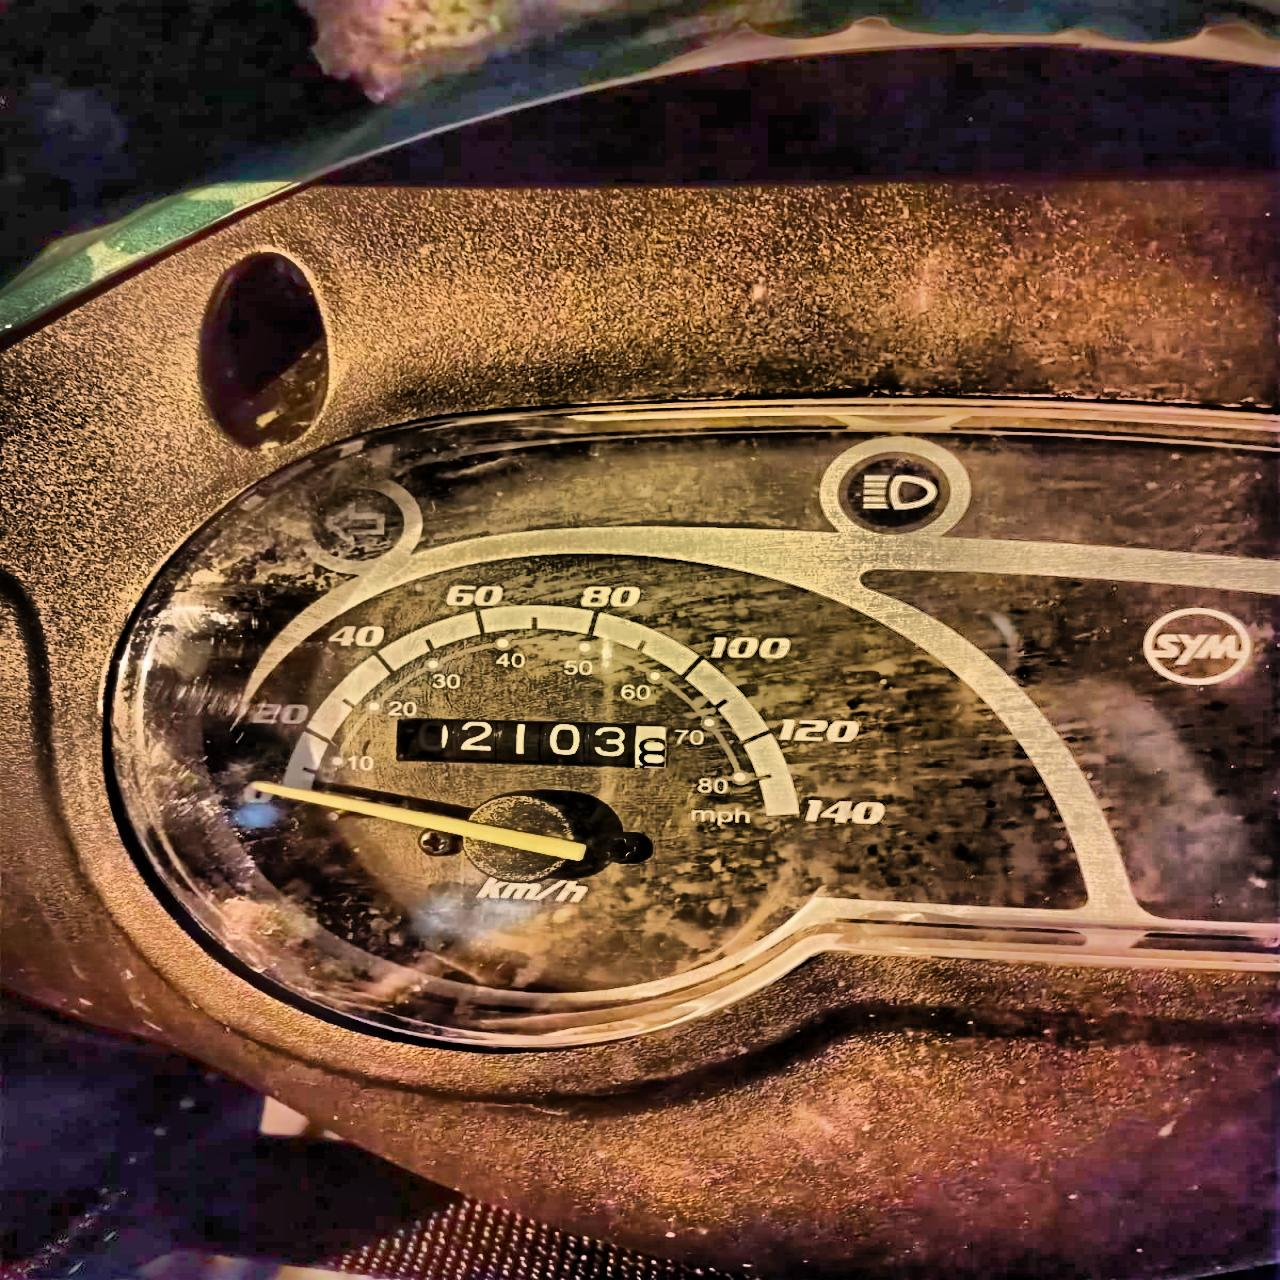0: (415, 719, 449, 751), (547, 722, 579, 756)
1: (515, 722, 525, 755)
2: (458, 720, 491, 751)
3: (592, 726, 625, 756)
8: (638, 737, 666, 767)
odometer: (395, 715, 673, 768)
